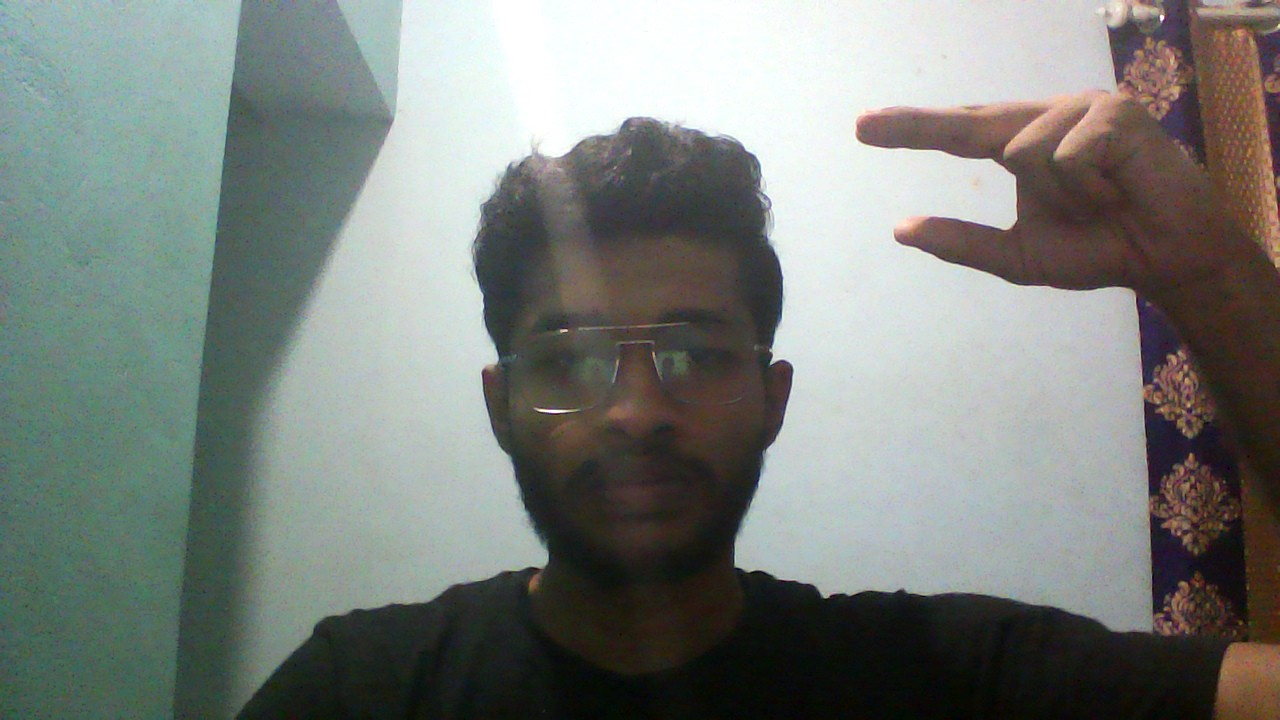No: (847, 58, 1243, 304)
